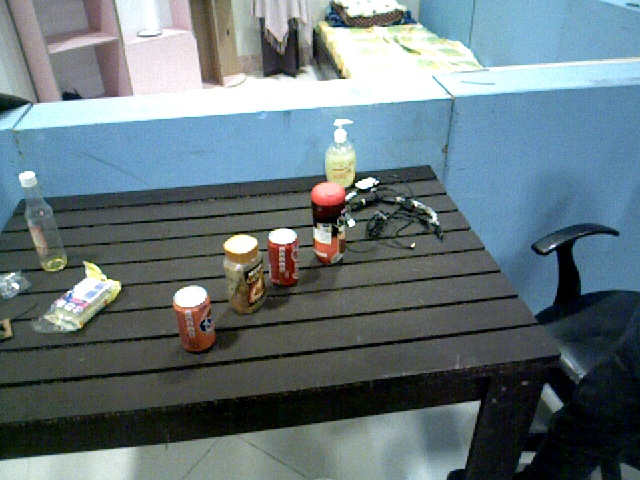coca: (267, 228, 301, 288)
coffee: (224, 235, 265, 313)
cream: (312, 183, 348, 267)
fanta: (175, 284, 215, 355)
